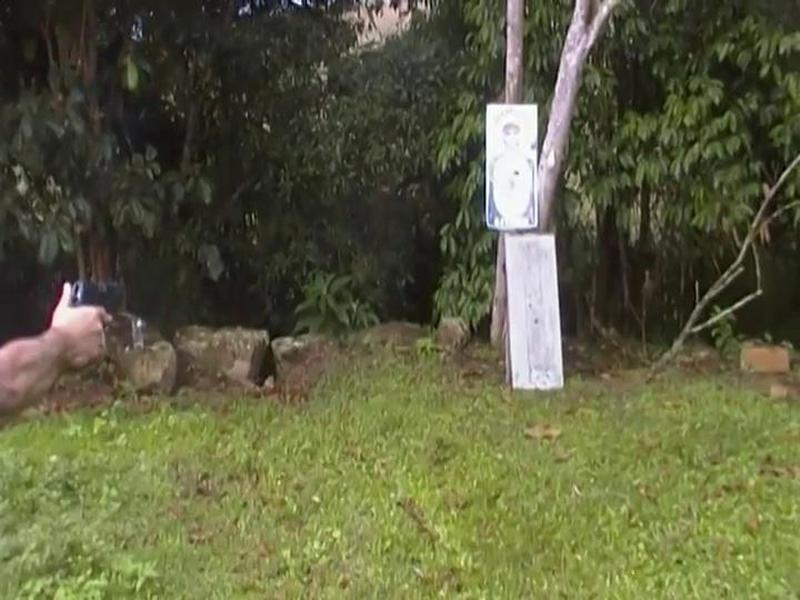Pistola: (58, 252, 140, 339)
